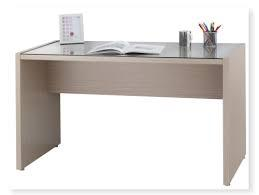desk: (9, 8, 250, 187)
